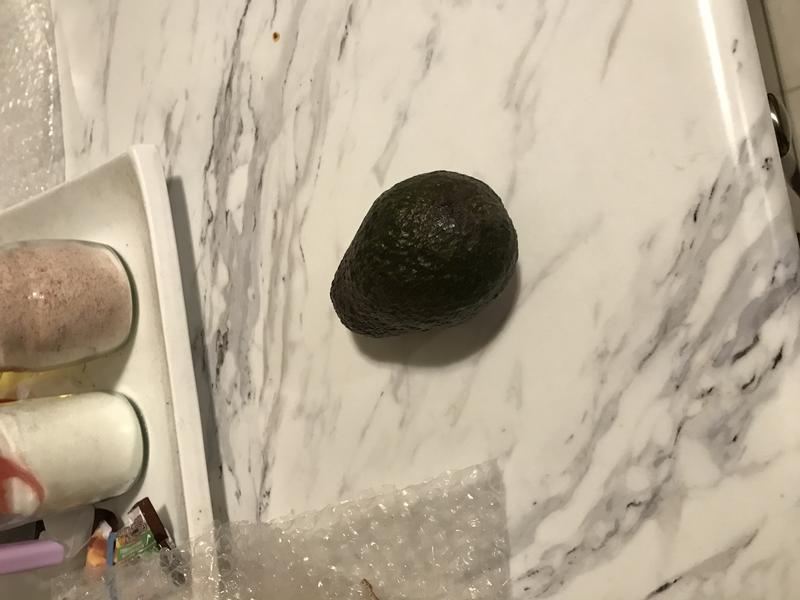avacado: (313, 158, 530, 356)
